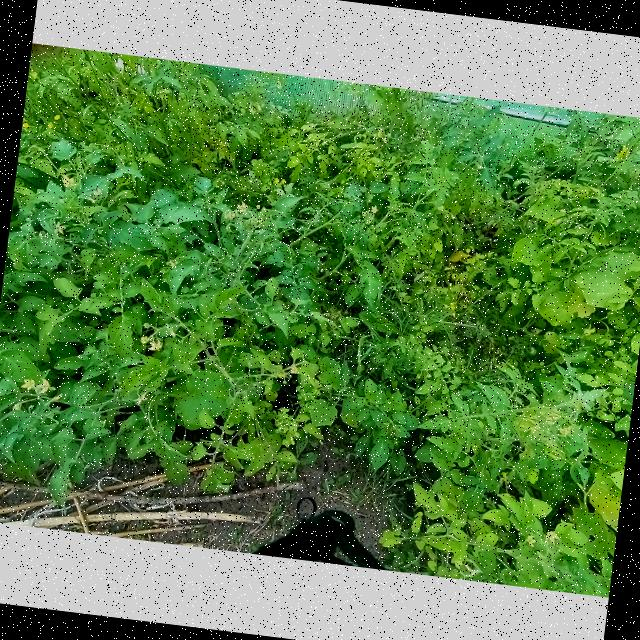Flowers: (138, 334, 164, 352), (33, 378, 55, 394), (132, 391, 148, 406), (544, 530, 561, 544), (60, 174, 76, 188), (234, 198, 248, 212), (52, 222, 66, 235), (21, 377, 34, 391), (273, 177, 286, 185), (28, 70, 38, 80), (369, 204, 378, 214), (499, 470, 508, 480), (37, 231, 49, 238), (288, 366, 298, 374), (167, 329, 175, 338), (424, 371, 432, 380), (22, 123, 32, 129), (226, 211, 234, 218), (360, 210, 368, 217), (448, 302, 455, 310), (414, 372, 422, 379), (377, 128, 382, 138), (274, 82, 282, 88), (436, 205, 444, 211), (48, 122, 54, 129), (248, 105, 254, 112), (269, 108, 275, 115), (449, 311, 456, 317), (254, 104, 260, 110), (382, 136, 388, 142), (54, 114, 60, 119), (444, 214, 449, 219), (442, 304, 447, 308), (372, 132, 376, 136), (476, 164, 479, 168)
